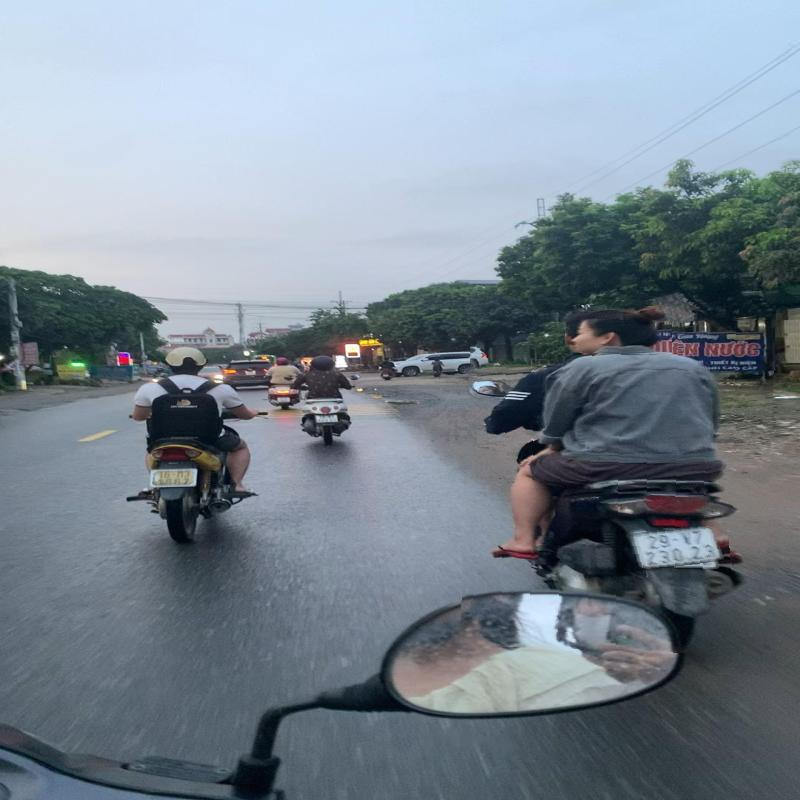licenseplate: (627, 524, 730, 569)
motorcyclist: (463, 296, 773, 652)
nohelmet: (565, 306, 672, 354)
